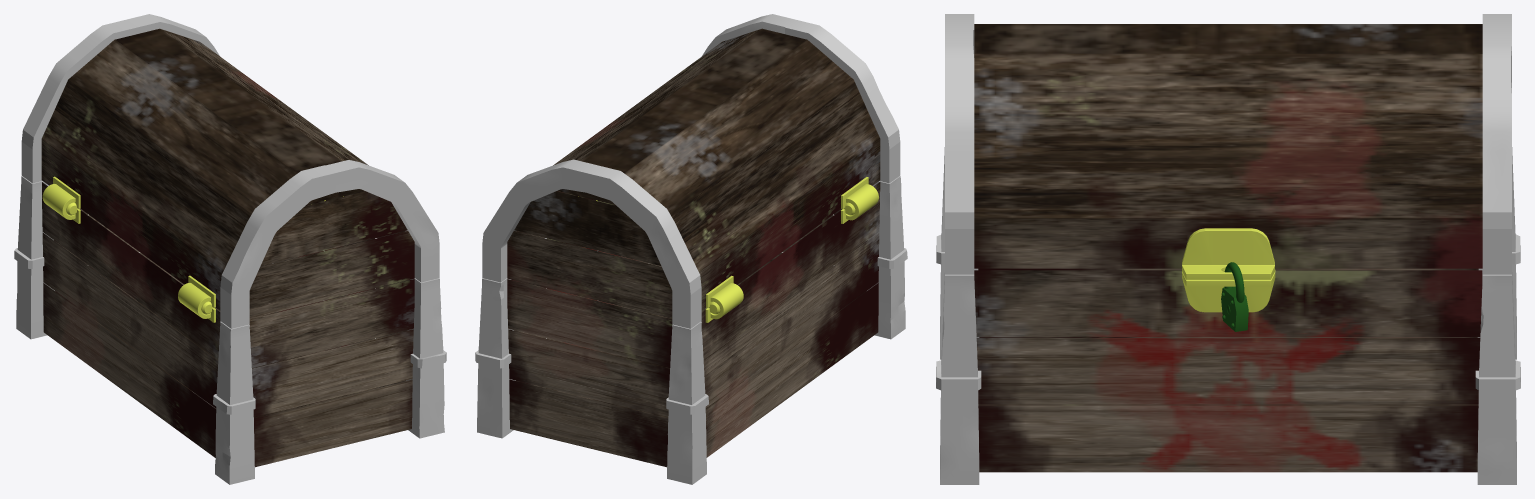
Rendered from Cofre.fbx.
3 renders of one model, left to right at view 1: azimuth 30°, elevation 25°; view 2: azimuth 150°, elevation 25°; view 3: azimuth 270°, elevation 25°, orthographic. The views are drawn at different scales.
Parts seen in each view (by area): view 1: Cofre; view 2: Cofre; view 3: Cofre.
Boxes of the visible parts, x1=… form: Cofre: x1=14, y1=14, x2=446, y2=484; Cofre: x1=475, y1=14, x2=907, y2=484; Cofre: x1=936, y1=14, x2=1520, y2=484.
Bounding box in the file's own units: 992 × 1111 × 1532.
